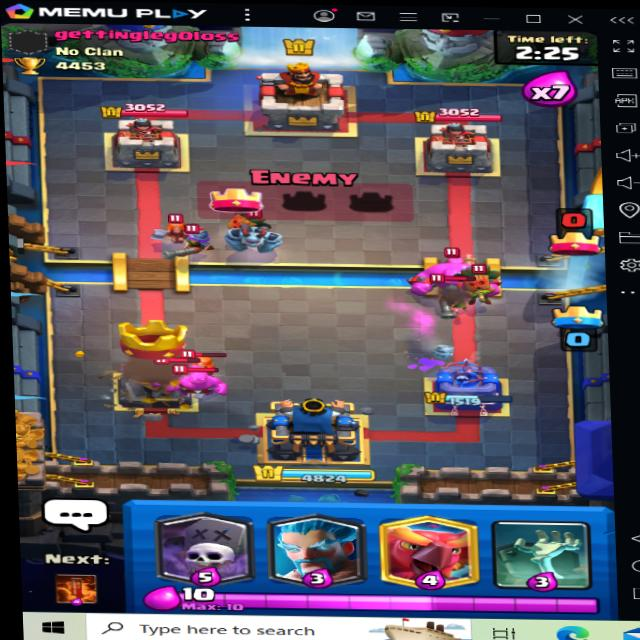dart-goblin: (229, 203, 272, 242), (457, 263, 504, 296)
electro-golem: (401, 251, 506, 301), (177, 358, 225, 399), (160, 352, 203, 381)
firecracker: (436, 246, 478, 276)
mega-minion: (226, 219, 287, 257)
musketeer: (428, 278, 486, 313), (172, 223, 219, 262)
valkyrie: (147, 212, 205, 244), (187, 349, 228, 376)
